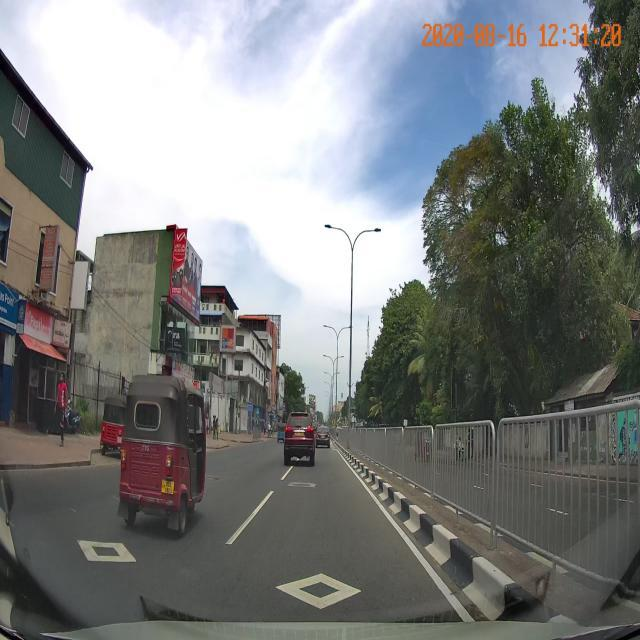diamond: (179, 565, 475, 621)
